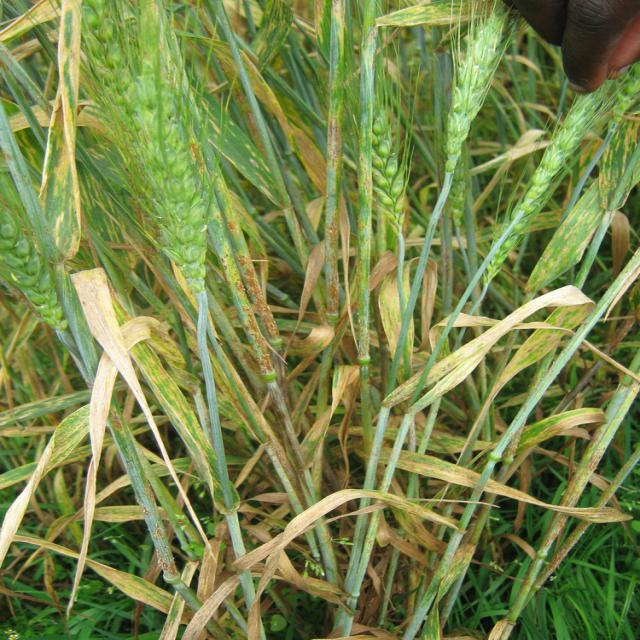wheat-septoria: (533, 519, 593, 588), (237, 255, 281, 340), (354, 219, 374, 358), (523, 414, 607, 444), (240, 304, 274, 373), (290, 123, 326, 186), (380, 367, 424, 409), (601, 310, 638, 357), (443, 541, 477, 590), (325, 206, 339, 314), (538, 513, 571, 551), (511, 559, 534, 608), (327, 118, 342, 173), (507, 421, 526, 458), (157, 548, 178, 579), (584, 446, 608, 472), (186, 139, 202, 174), (109, 404, 123, 431), (152, 521, 166, 542), (589, 430, 603, 449), (146, 477, 156, 502), (364, 177, 373, 195), (234, 279, 243, 293), (228, 219, 238, 230), (1, 148, 10, 160), (141, 506, 150, 515)
